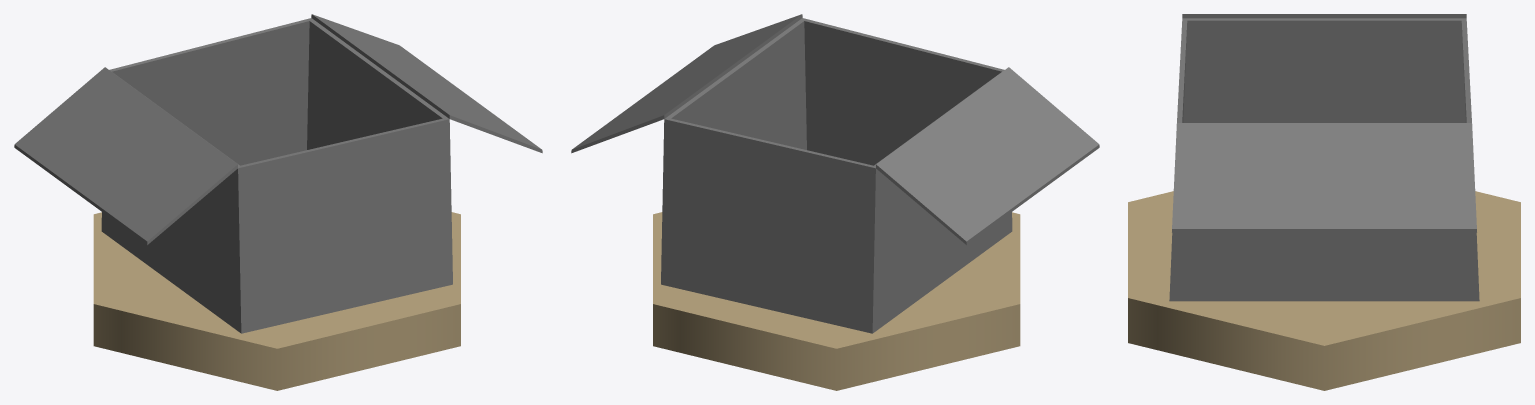
File: HexShelter.fbx
3 views of the same model, side by side, from view 1: azimuth 30°, elevation 25°; view 2: azimuth 150°, elevation 25°; view 3: azimuth 270°, elevation 25° (orthographic). The views are drawn at different scales.
Parts seen in each view (by area): view 1: Shelter, Hex; view 2: Shelter, Hex; view 3: Shelter, Hex.
Boxes of the visible parts, left/top/right/bottom form: Shelter: left=14, top=14, right=542, bottom=333; Hex: left=93, top=212, right=460, bottom=390; Shelter: left=571, top=14, right=1099, bottom=333; Hex: left=653, top=212, right=1020, bottom=390; Shelter: left=1169, top=14, right=1479, bottom=301; Hex: left=1128, top=191, right=1520, bottom=390.
Bounding box in the file's own units: 4.84 × 2.51 × 3.95.
